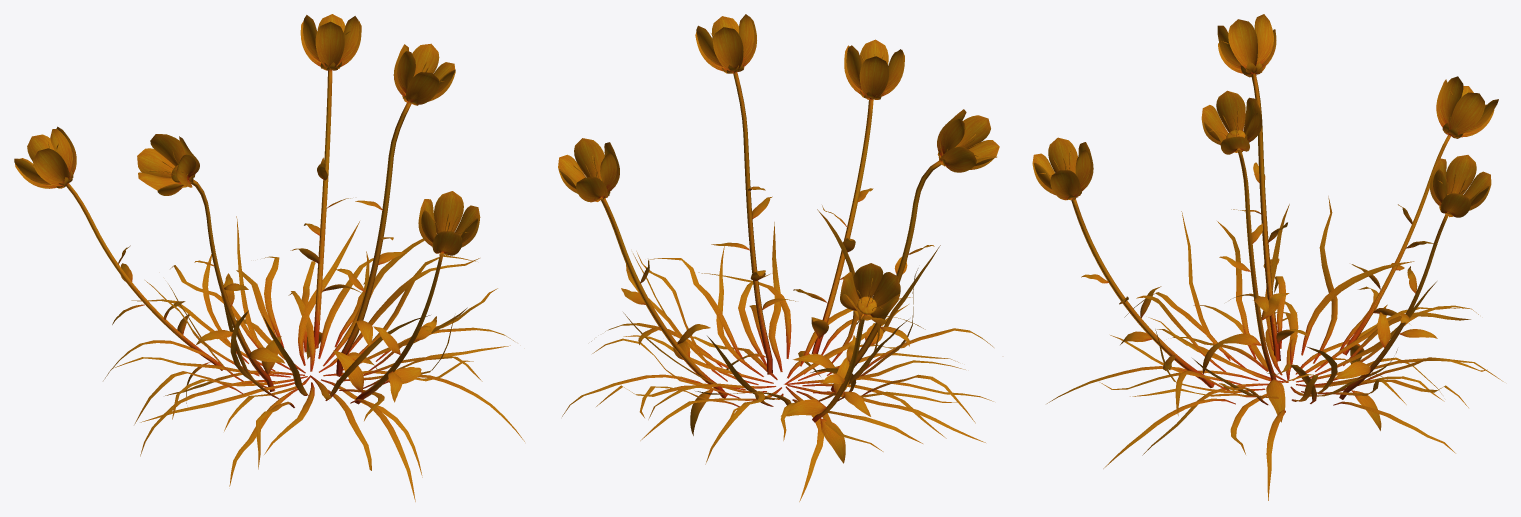
The model's file is flowers_short_animation.glb.
The picture shows the model from 3 angles, left to right: view 1: azimuth 30°, elevation 25°; view 2: azimuth 150°, elevation 25°; view 3: azimuth 270°, elevation 25°; orthographic projection.
Parts seen in each view (by area): view 1: Polygon; view 2: Polygon; view 3: Polygon.
Part boxes in pixels (x1,y1,x2,y2): Polygon: (14,14,524,501); Polygon: (558,14,999,501); Polygon: (1032,14,1503,500).
Size of the model in its own units: 1.69 by 1.51 by 1.7.
1 material, 1 textured.
